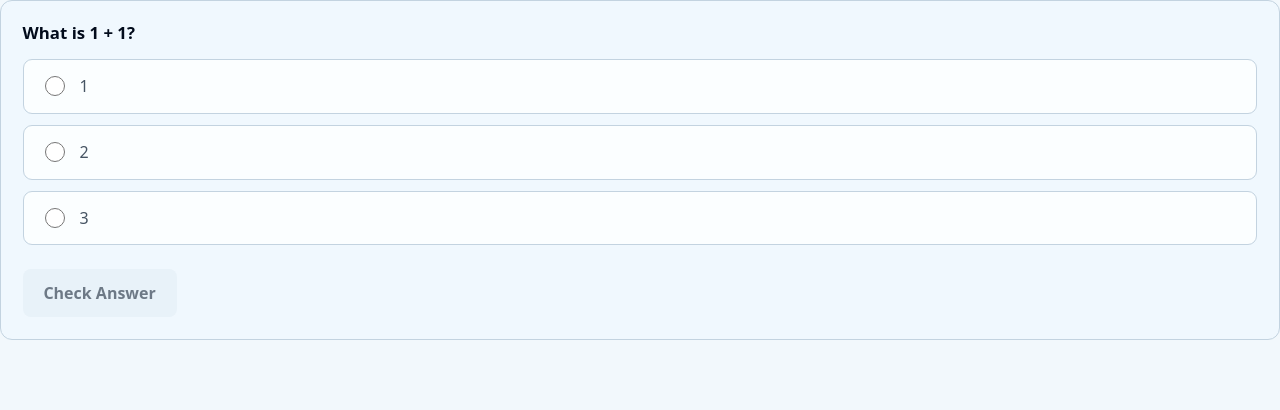
Scenario: InteractiveExercise › renders multiple choice options and handles incorrect selection
// Select incorrect option
Click the text "1". click: x=84, y=86
box: 80,74 -> 89,98
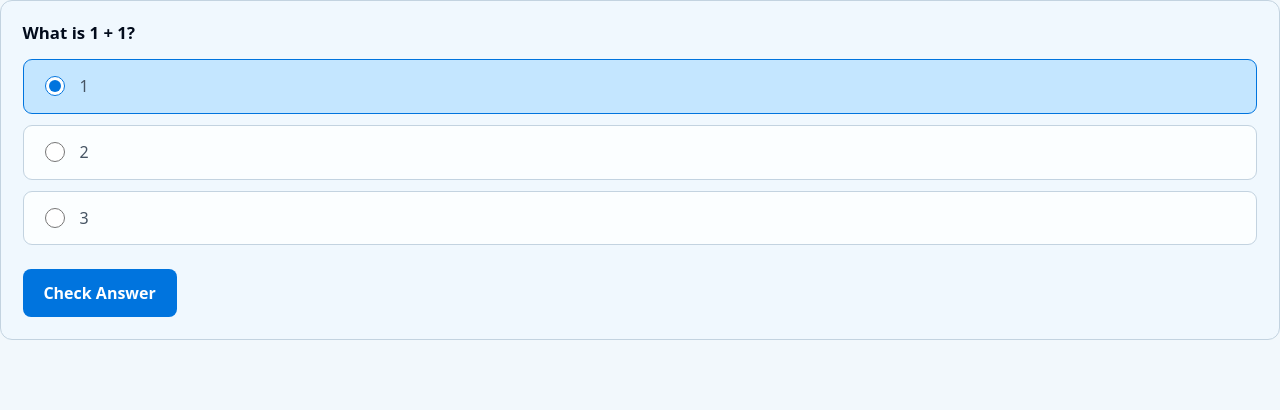
// Check answer
Click the button "Check Answer". click: x=100, y=294
box: 23,270 -> 177,318
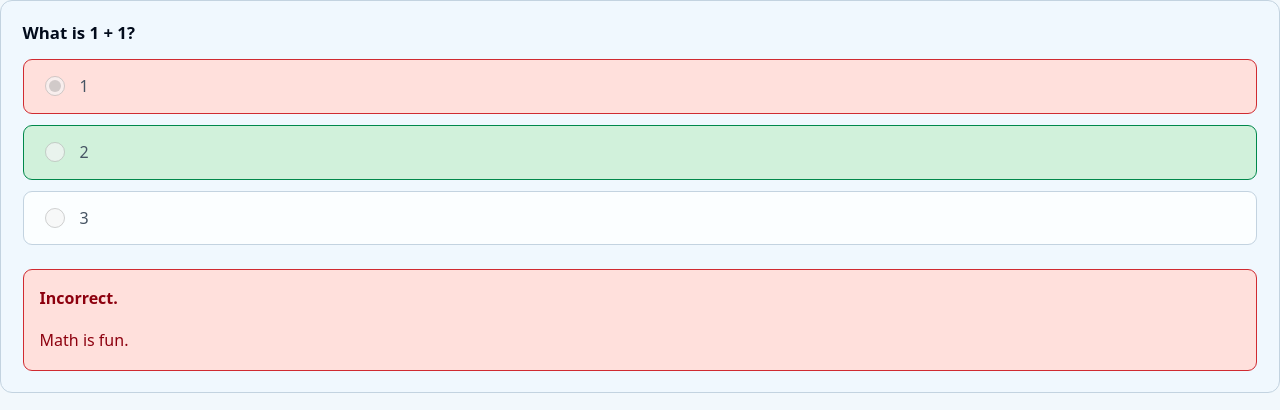
Now the text "Incorrect." is shown, box 40,288 -> 118,310
Now the text "Math is fun." is shown, box 40,329 -> 128,351
